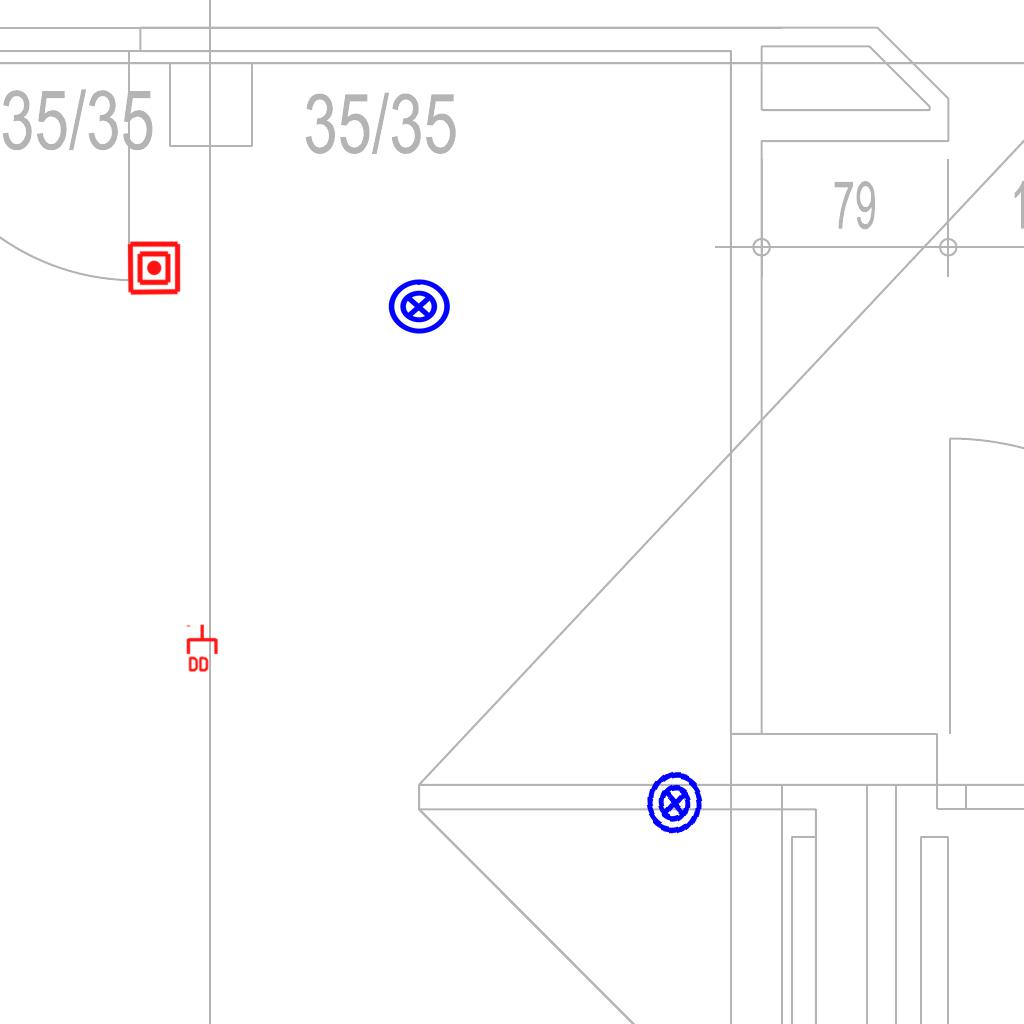Datenanschluss_zweifach: (186, 623, 220, 674)
NAM-Nichtautomatischer_Melder: (126, 240, 182, 296)
Taster_beleuchtet: (638, 766, 712, 840), (386, 274, 452, 340)
